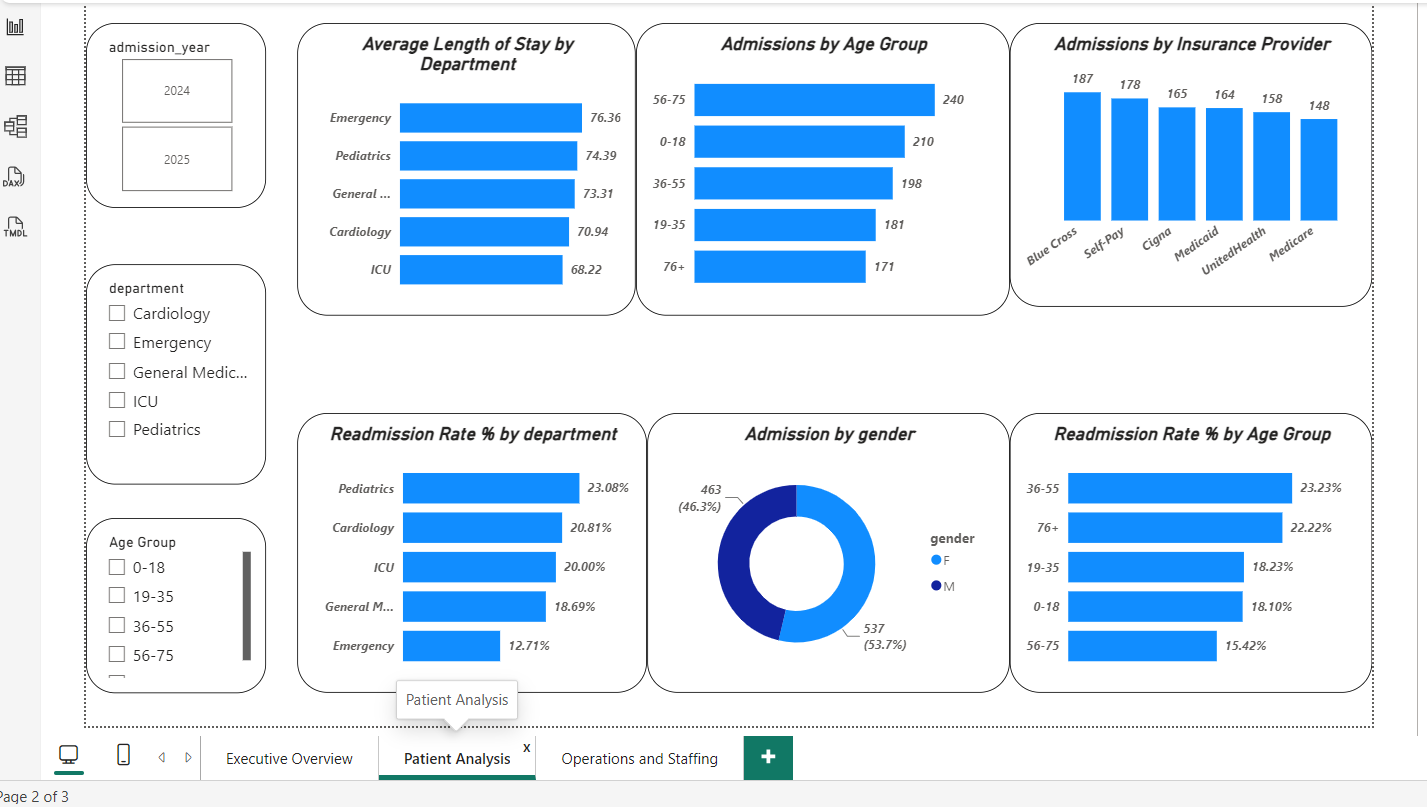

The page's visual inventory and layout, read from the dashboard file:
{"tool":"powerbi","page":{"name":"Patient Analysis","canvas":[1280,720],"ordinal":1},"visuals":[{"type":"clusteredBarChart","title":"Average Length of Stay by Department","fields":{"Y":["Avg(patient_admission_final.length_of_stay_hours)"],"Category":["patient_admission_final.department"]},"box":[210.2,19.9,337.1,291.1],"z":0},{"type":"clusteredBarChart","fields":{"Y":["patient_admission_final.Readmission Rate %"],"Category":["patient_admission_final.department"]},"box":[210.2,408,348.3,278.6],"z":1000},{"type":"clusteredBarChart","title":"Admissions by Age Group","fields":{"Category":["patient_admission_final.Age Group"],"Y":["CountNonNull(patient_admission_final.admission_id)"]},"box":[547.3,19.9,371.9,291.1],"z":2000},{"type":"donutChart","title":"Admission by gender","fields":{"Category":["patient_admission_final.gender"],"Y":["CountNonNull(patient_admission_final.admission_id)"]},"box":[558.5,408,360.7,278.6],"z":3000},{"type":"clusteredColumnChart","title":"Admissions by Insurance Provider","fields":{"Category":["patient_admission_final.insurance_provider"],"Y":["CountNonNull(patient_admission_final.admission_id)"]},"box":[919.3,19.9,360.7,282.4],"z":4000},{"type":"clusteredBarChart","fields":{"Category":["patient_admission_final.Age Group"],"Y":["patient_admission_final.Readmission Rate %"]},"box":[919.3,408,360.7,278.6],"z":5000},{"type":"slicer","fields":{"Values":["patient_admission_final.department"]},"box":[0,260,179.1,218.9],"z":6000},{"type":"slicer","fields":{"Values":["patient_admission_final.Age Group"]},"box":[0,512.5,179.1,174.2],"z":7000},{"type":"slicer","fields":{"Values":["patient_admission_final.admission_year"]},"box":[0,19.9,179.1,184.1],"z":8000}]}

Visuals, with their boxes on the page's 1280x720 design canvas (x1, y1, x2, y2). These are canvas units, not pixel positions in the 1427x807 screenshot, which may show the page scaled, cropped or inside an application window:
"Average Length of Stay by Department" clusteredBarChart: <box>210,20,547,311</box>
clusteredBarChart - patient_admission_final.Readmission Rate % x patient_admission_final.department: <box>210,408,558,687</box>
"Admissions by Age Group" clusteredBarChart: <box>547,20,919,311</box>
"Admission by gender" donutChart: <box>558,408,919,687</box>
"Admissions by Insurance Provider" clusteredColumnChart: <box>919,20,1280,302</box>
clusteredBarChart - patient_admission_final.Age Group x patient_admission_final.Readmission Rate %: <box>919,408,1280,687</box>
slicer - patient_admission_final.department: <box>0,260,179,479</box>
slicer - patient_admission_final.Age Group: <box>0,512,179,687</box>
slicer - patient_admission_final.admission_year: <box>0,20,179,204</box>
